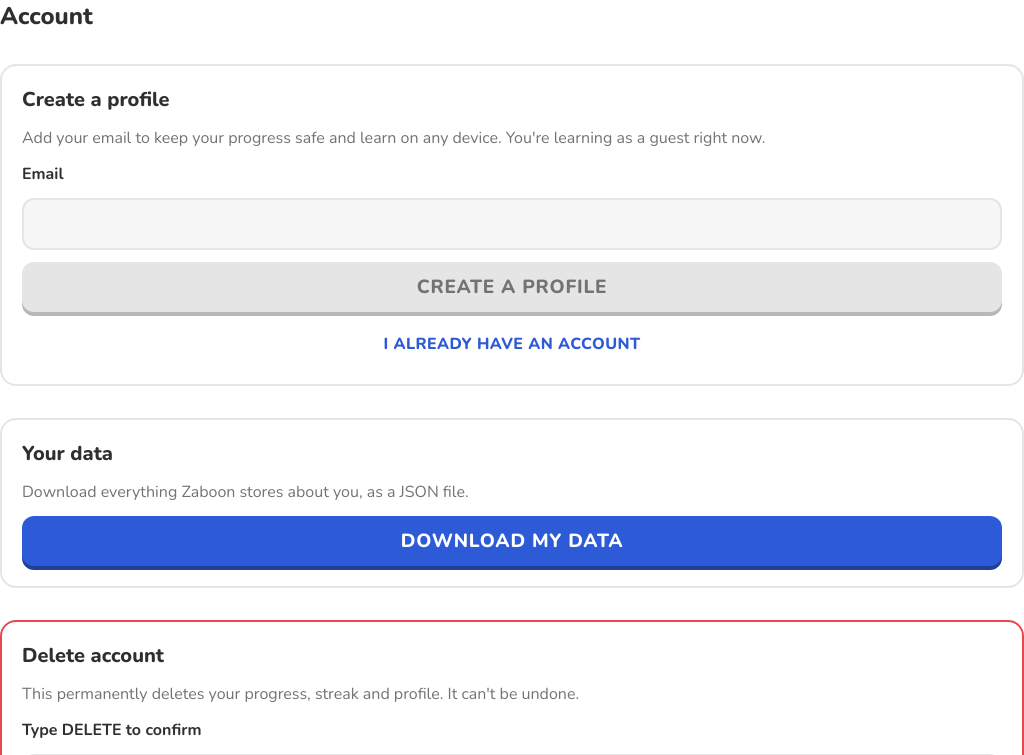
it: AccountScreen: a guest creates a profile › an email that already has an account: flush → link → sign in → merge → re-tag the queue
Type "sara@example.com" into the field labelled "Email" at (512, 224), box [22,198,1002,250]
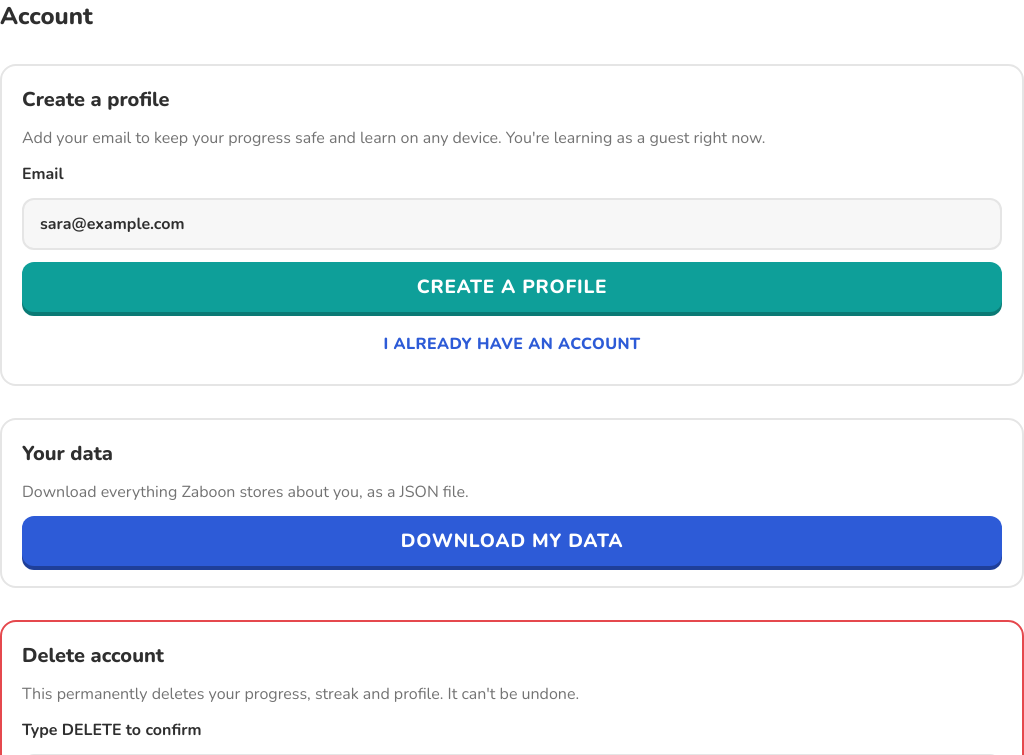
Click the button "Create a profile" at (512, 287), box [22,262,1002,312]
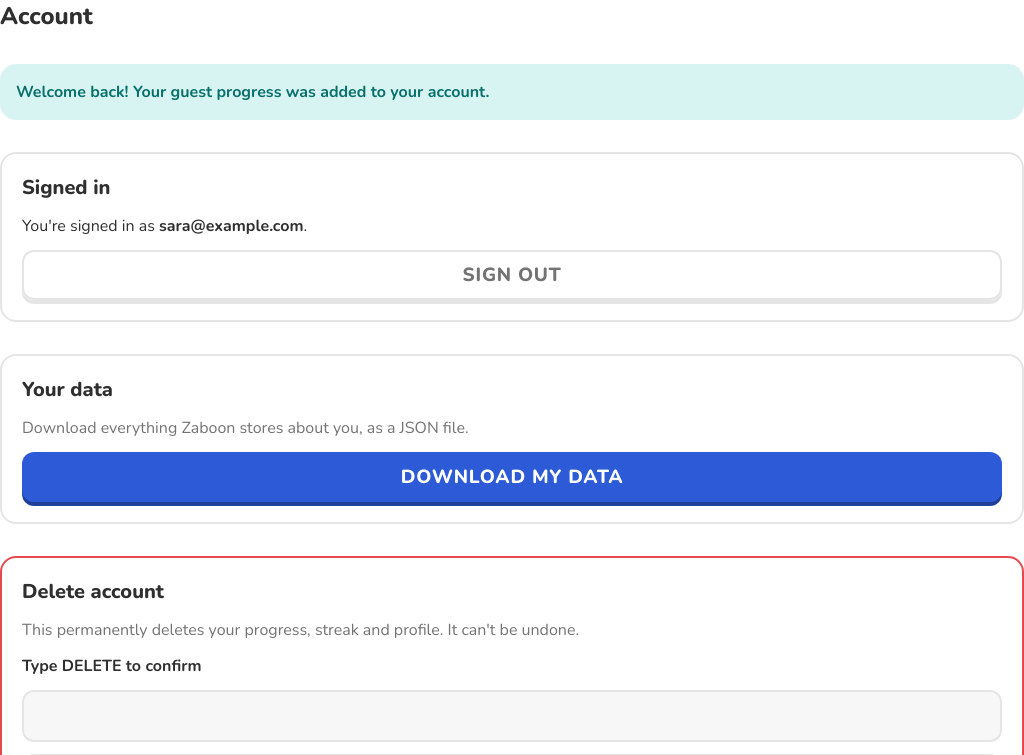
Expected: the message shows "guest progress was added", [16,81,490,103]
